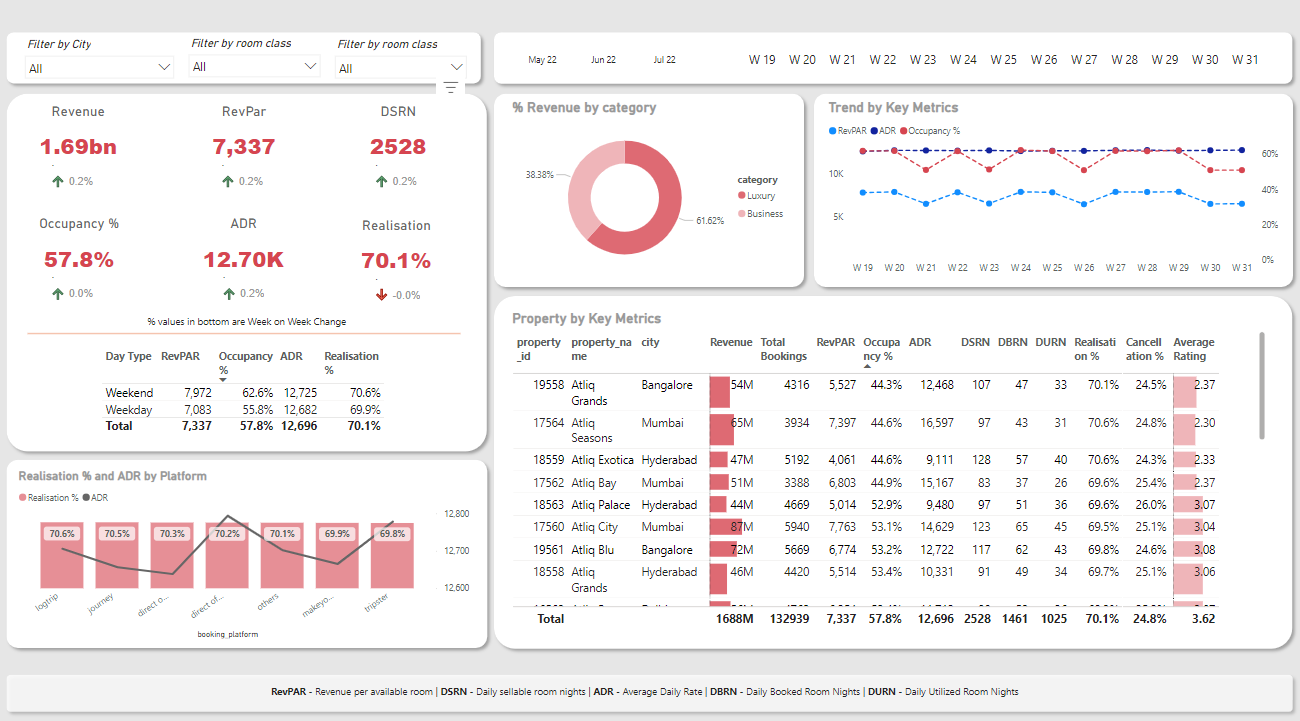

What the dashboard file says about the page in this screenshot:
{"tool":"powerbi","page":{"name":"Home","canvas":[1800,1100],"ordinal":0},"visuals":[{"type":"shape","box":[0.2,123.6,675.2,88.8],"z":0},{"type":"shape","box":[676,122.7,1124,89.3],"z":1000},{"type":"shape","box":[676,488,1124,506.7],"z":2000},{"type":"shape","box":[675.1,208.6,447.6,286.1],"z":3000},{"type":"shape","box":[1118.6,208.6,681.7,286.1],"z":4000},{"type":"shape","box":[0.2,207,683.4,513.9],"z":5000},{"type":"slicer","fields":{"Values":["dim_rooms.room_class"]},"box":[250.7,133.3,202.7,72],"z":6000},{"type":"slicer","fields":{"Values":["dim_hotels.city"]},"box":[24,134.7,226.7,76],"z":7000},{"type":"slicer","fields":{"Values":["dim_date.mmm yy"]},"box":[683.6,145.5,302.1,47.8],"z":8000},{"type":"card","title":"Revenue","fields":{"Values":["key_measures.Revenue"]},"box":[30.7,230.7,154.7,95.8],"z":8000,"group":"g2"},{"type":"card","title":"RevPar","fields":{"Values":["key_measures.Rev Par"]},"box":[257.9,230.7,160.2,95.8],"z":9000,"group":"g2"},{"type":"card","title":"Occupancy %","fields":{"Values":["key_measures.Occupancy %"]},"box":[14.7,386.3,192,96],"z":9000,"group":"g1"},{"type":"tableEx","title":"Property by Key Metrics","fields":{"Values":["dim_hotels.property_id","dim_hotels.property_name","dim_hotels.city","key_measures.Revenue","key_measures.Total Bookings","key_measures.Rev Par","key_measures.Occupancy %","key_measures.ADR","key_measures.DSRN","key_measures.DBRN","key_measures.DURN","key_measures.Realisation %"]},"box":[704,517.3,1053.3,445.3],"z":9000},{"type":"lineChart","title":"Trend by Key Metrics","fields":{"Category":["dim_date.mmm yy.Variation.Date Hierarchy.Month","dim_date.week no"],"Y2":["key_measures.Occupancy %"],"Y":["key_measures.Rev Par","key_measures.ADR"]},"box":[1142.7,225.3,633.3,252],"z":10000},{"type":"card","title":"DSRN","fields":{"Values":["key_measures.DSRN"]},"box":[456.5,231.1,189.3,96],"z":11000,"group":"g2"},{"type":"tableEx","fields":{"Values":["dim_date.day type","key_measures.Rev Par","key_measures.Occupancy %","key_measures.ADR","key_measures.Realisation %"]},"box":[135.1,564.9,437.2,129.8],"z":11000},{"type":"card","title":"ADR","fields":{"Values":["key_measures.ADR"]},"box":[241.4,385.9,193.3,96],"z":12000,"group":"g1"},{"type":"shape","box":[0,716,684,278.7],"z":12000},{"type":"card","title":"Realisation","fields":{"Values":["key_measures.Realisation %"]},"box":[452.5,386.8,194.7,96],"z":13000,"group":"g1"},{"type":"lineStackedColumnComboChart","title":"Realisation % and ADR by Platform","fields":{"Category":["fact_bookings.booking_platform"],"Y":["key_measures.Realisation %"],"Y2":["key_measures.ADR"]},"box":[21.3,736,634.7,241.3],"z":13000},{"type":"slicer","fields":{"Values":["dim_date.week no"]},"box":[1002.7,145.3,773.3,48],"z":14000},{"type":"shape","box":[0,1013.3,1800,69.3],"z":15000},{"type":"group","id":"g1","title":"Group 1","box":[14.7,385.9,632.4,96.9],"z":16000},{"type":"slicer","fields":{"Values":["dim_rooms.room_class"]},"box":[453.3,134.7,202.7,72],"z":19000},{"type":"group","id":"g2","title":"Group 2","box":[30.7,230.7,615.1,96.4],"z":20000},{"type":"tableEx","fields":{"Values":["key_measures.Revpar WoW change %"]},"box":[296,297.3,92,58.7],"z":21000},{"type":"textbox","box":[345,1029.6,1093.6,39],"z":22000},{"type":"shape","box":[38.7,542.7,600,14.7],"z":23000},{"type":"tableEx","fields":{"Values":["key_measures.Revpar WoW change %"]},"box":[61.3,297.3,92,58.7],"z":24000},{"type":"tableEx","fields":{"Values":["key_measures.Revpar WoW change %"]},"box":[509.3,297.3,92,58.7],"z":25000},{"type":"donutChart","title":"% Revenue by category","fields":{"Category":["dim_hotels.category"],"Y":["key_measures.Revenue"]},"box":[704,225.3,396,248],"z":26000},{"type":"group","id":"g3","title":"Group 3","box":[61.3,454.3,540,60],"z":27000},{"type":"tableEx","fields":{"Values":["key_measures.Occupancy WoW change %"]},"box":[61.3,454.3,92,58.7],"z":27000,"group":"g3"},{"type":"tableEx","fields":{"Values":["key_measures.ADR WoW change %"]},"box":[298.6,454.3,92,58.7],"z":28000,"group":"g3"},{"type":"textbox","box":[200,517.3,308,33.3],"z":28000},{"type":"tableEx","fields":{"Values":["key_measures.Realisation WoW change %"]},"box":[509.3,455.6,92,58.7],"z":29000,"group":"g3"}]}

Visuals, with their boxes on the page's 1800x1100 design canvas (x1, y1, x2, y2). These are canvas units, not pixel positions in the 1300x721 screenshot, which may show the page scaled, cropped or inside an application window:
shape: crop(0, 124, 675, 212)
shape: crop(676, 123, 1800, 212)
shape: crop(676, 488, 1800, 995)
shape: crop(675, 209, 1123, 495)
shape: crop(1119, 209, 1800, 495)
shape: crop(0, 207, 684, 721)
slicer - dim_rooms.room_class: crop(251, 133, 453, 205)
slicer - dim_hotels.city: crop(24, 135, 251, 211)
slicer - dim_date.mmm yy: crop(684, 146, 986, 193)
"Revenue" card: crop(31, 231, 185, 326)
"RevPar" card: crop(258, 231, 418, 326)
"Occupancy %" card: crop(15, 386, 207, 482)
"Property by Key Metrics" tableEx: crop(704, 517, 1757, 963)
"Trend by Key Metrics" lineChart: crop(1143, 225, 1776, 477)
"DSRN" card: crop(456, 231, 646, 327)
tableEx - dim_date.day type x key_measures.Rev Par: crop(135, 565, 572, 695)
"ADR" card: crop(241, 386, 435, 482)
shape: crop(0, 716, 684, 995)
"Realisation" card: crop(452, 387, 647, 483)
"Realisation % and ADR by Platform" lineStackedColumnComboChart: crop(21, 736, 656, 977)
slicer - dim_date.week no: crop(1003, 145, 1776, 193)
shape: crop(0, 1013, 1800, 1083)
"Group 1" group: crop(15, 386, 647, 483)
slicer - dim_rooms.room_class: crop(453, 135, 656, 207)
"Group 2" group: crop(31, 231, 646, 327)
tableEx - key_measures.Revpar WoW change %: crop(296, 297, 388, 356)
textbox: crop(345, 1030, 1439, 1069)
shape: crop(39, 543, 639, 557)
tableEx - key_measures.Revpar WoW change %: crop(61, 297, 153, 356)
tableEx - key_measures.Revpar WoW change %: crop(509, 297, 601, 356)
"% Revenue by category" donutChart: crop(704, 225, 1100, 473)
"Group 3" group: crop(61, 454, 601, 514)
tableEx - key_measures.Occupancy WoW change %: crop(61, 454, 153, 513)
tableEx - key_measures.ADR WoW change %: crop(299, 454, 391, 513)
textbox: crop(200, 517, 508, 551)
tableEx - key_measures.Realisation WoW change %: crop(509, 456, 601, 514)
